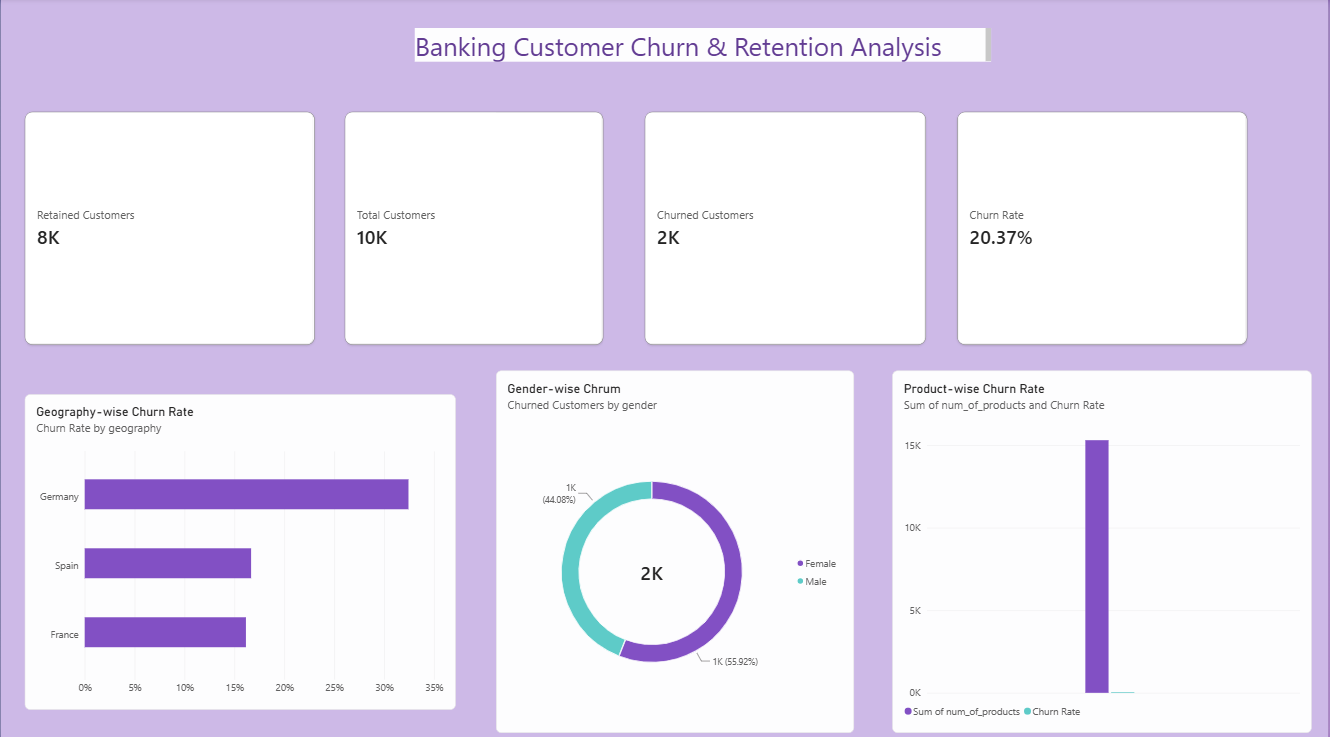

What the dashboard file says about the page in this screenshot:
{"tool":"powerbi","page":{"name":"Page 1","canvas":[1920,1080],"ordinal":0},"visuals":[{"type":"cardVisual","fields":{"Data":["public customers.Total Customers"]},"box":[498.1,164.7,374.6,337.6],"z":1},{"type":"cardVisual","fields":{"Data":["public customers.Churned Customers"]},"box":[932.4,164.7,407.5,337.6],"z":2},{"type":"cardVisual","fields":{"Data":["public customers.Churn Rate"]},"box":[1385.3,164.7,419.9,337.6],"z":3},{"type":"cardVisual","fields":{"Data":["public customers.Retained Customers"]},"box":[35,164.7,419.9,337.6],"z":4},{"type":"barChart","title":"Geography-wise Churn Rate","fields":{"Category":["public customers.geography"],"Y":["public customers.Churn Rate"]},"box":[35,574.3,623.7,456.9],"z":7},{"type":"donutChart","title":"Gender-wise Chrum","fields":{"Category":["public customers.gender"],"Y":["public customers.Churned Customers"]},"box":[716.3,539.3,518.7,524.9],"z":8},{"type":"clusteredColumnChart","title":"Product-wise Churn Rate","fields":{"Y":["Sum(public customers.num_of_products)","public customers.Churn Rate"]},"box":[1290.6,539.3,607.2,524.9],"z":9},{"type":"textbox","box":[599.6,42.5,834.6,48.6],"z":11}]}

Visuals, with their boxes in screenshot pixels (x1, y1, x2, y2), scaled from the page's 1920x1080 canvas onto the 1330x737 screenshot:
cardVisual - public customers.Total Customers: {"x1": 345, "y1": 112, "x2": 605, "y2": 343}
cardVisual - public customers.Churned Customers: {"x1": 646, "y1": 112, "x2": 928, "y2": 343}
cardVisual - public customers.Churn Rate: {"x1": 960, "y1": 112, "x2": 1250, "y2": 343}
cardVisual - public customers.Retained Customers: {"x1": 24, "y1": 112, "x2": 315, "y2": 343}
"Geography-wise Churn Rate" barChart: {"x1": 24, "y1": 392, "x2": 456, "y2": 704}
"Gender-wise Chrum" donutChart: {"x1": 496, "y1": 368, "x2": 855, "y2": 726}
"Product-wise Churn Rate" clusteredColumnChart: {"x1": 894, "y1": 368, "x2": 1315, "y2": 726}
textbox: {"x1": 415, "y1": 29, "x2": 993, "y2": 62}
